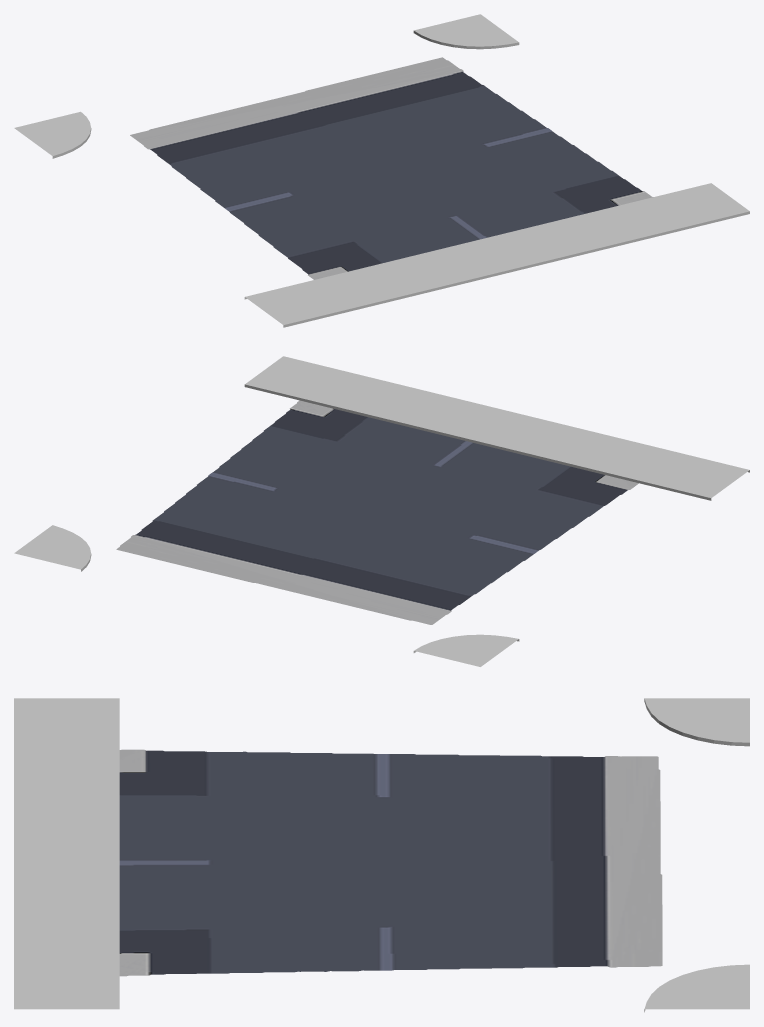
Rendered from Road_T.fbx.
3 renders of one model, top to bottom at view 1: azimuth 30°, elevation 25°; view 2: azimuth 150°, elevation 25°; view 3: azimuth 270°, elevation 25°, orthographic. The views are drawn at different scales.
Parts seen in each view (by area): view 1: Road_T_Intersection; view 2: Road_T_Intersection; view 3: Road_T_Intersection.
Part boxes in pixels (x1,y1,x2,y2): Road_T_Intersection: (14,14,749,327); Road_T_Intersection: (14,356,749,666); Road_T_Intersection: (14,698,749,1012).
Size of the model in its own units: 379 by 2.04 by 379.
